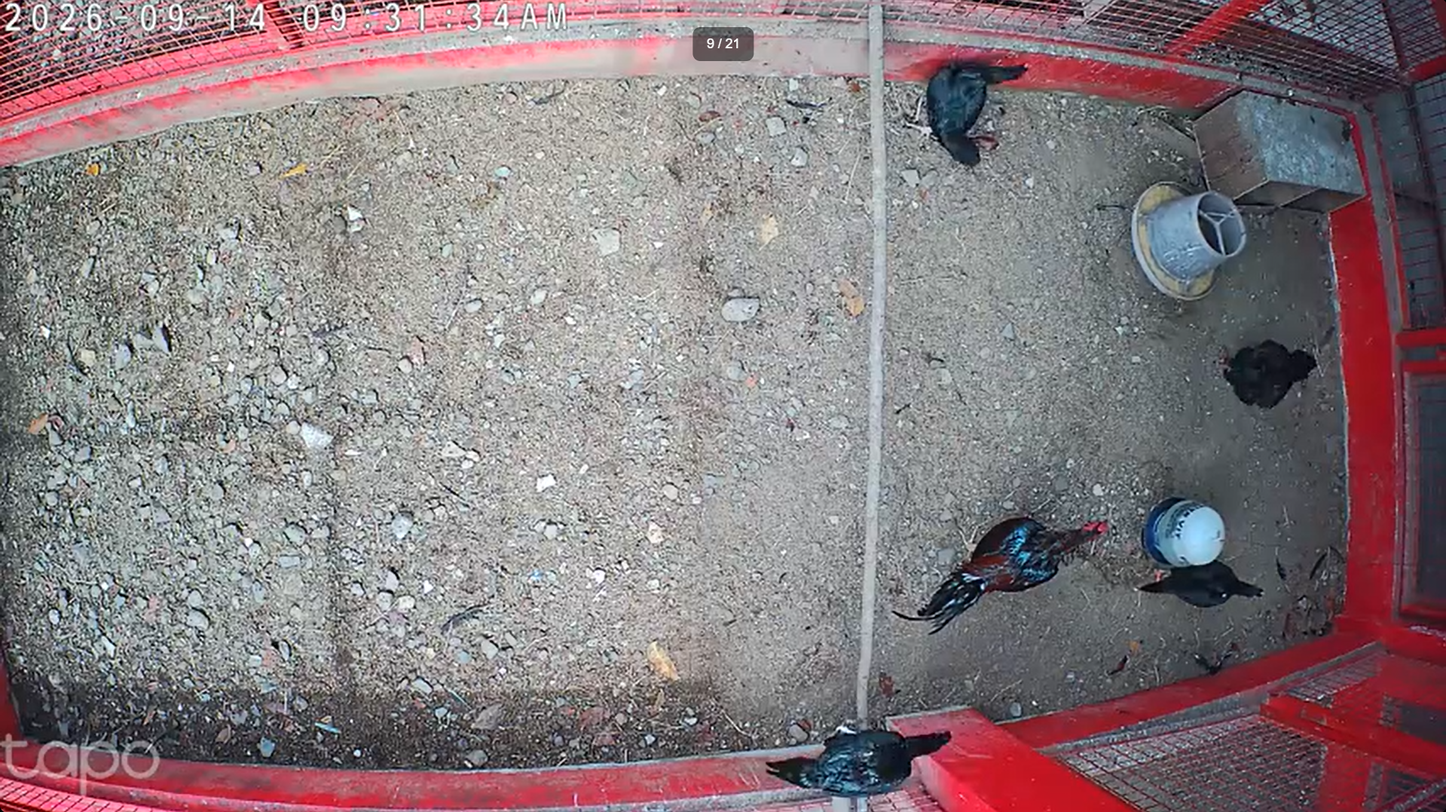Chicken: (763, 713, 955, 799), (1139, 560, 1266, 611)
